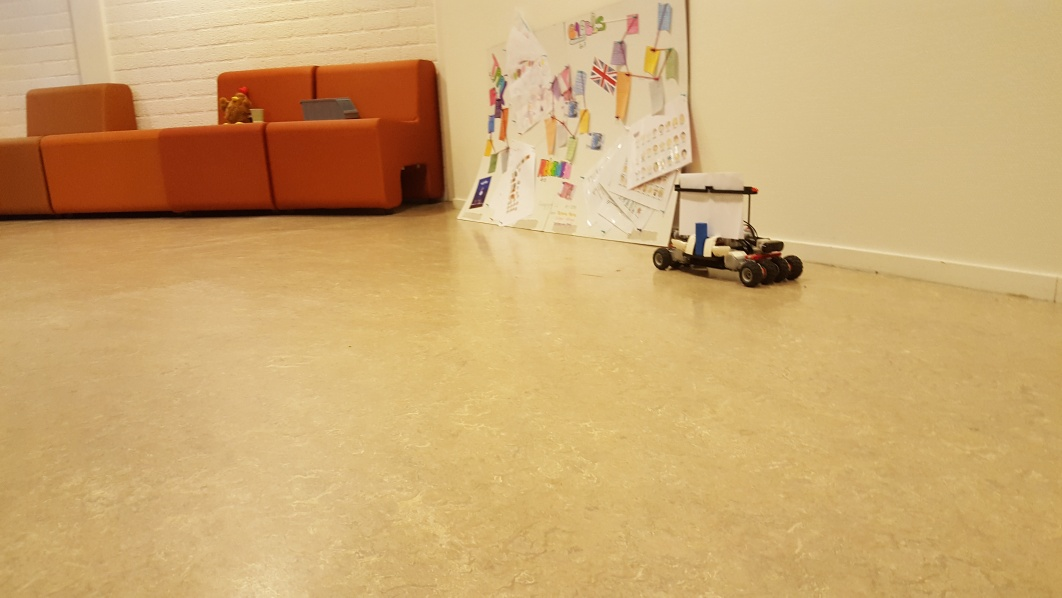beam: (688, 219, 708, 262)
chicken: (221, 85, 252, 125)
cup: (248, 101, 267, 126)
tray: (300, 92, 362, 122)
